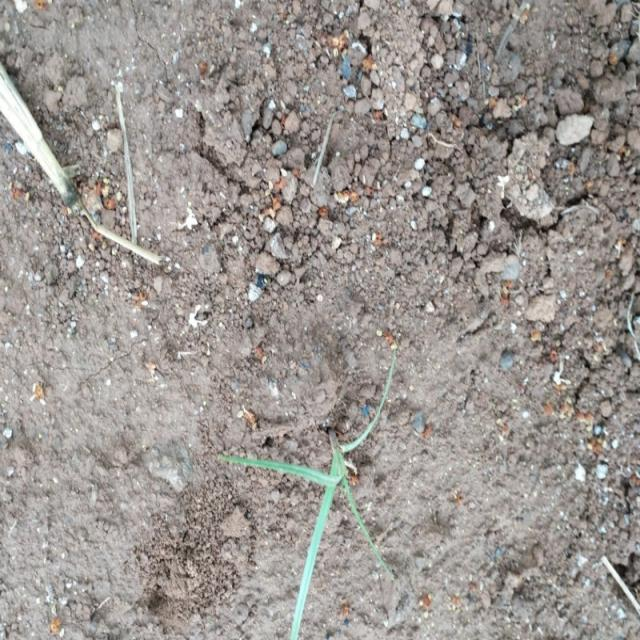sedge: (238, 380, 398, 621)
